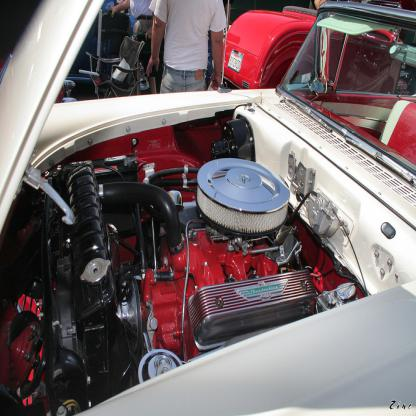Car: (0, 0, 416, 416), (215, 3, 416, 88)
